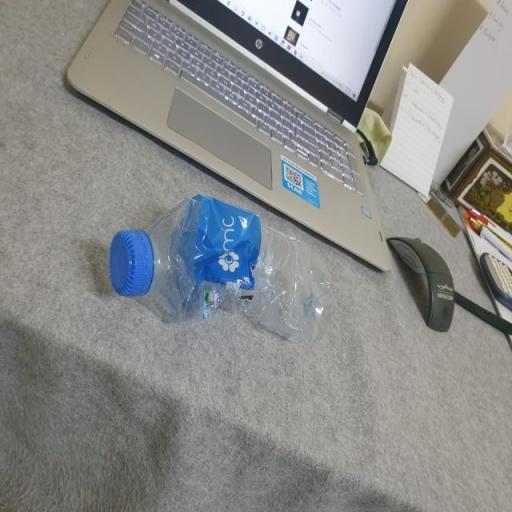plastic: (94, 194, 333, 344)
